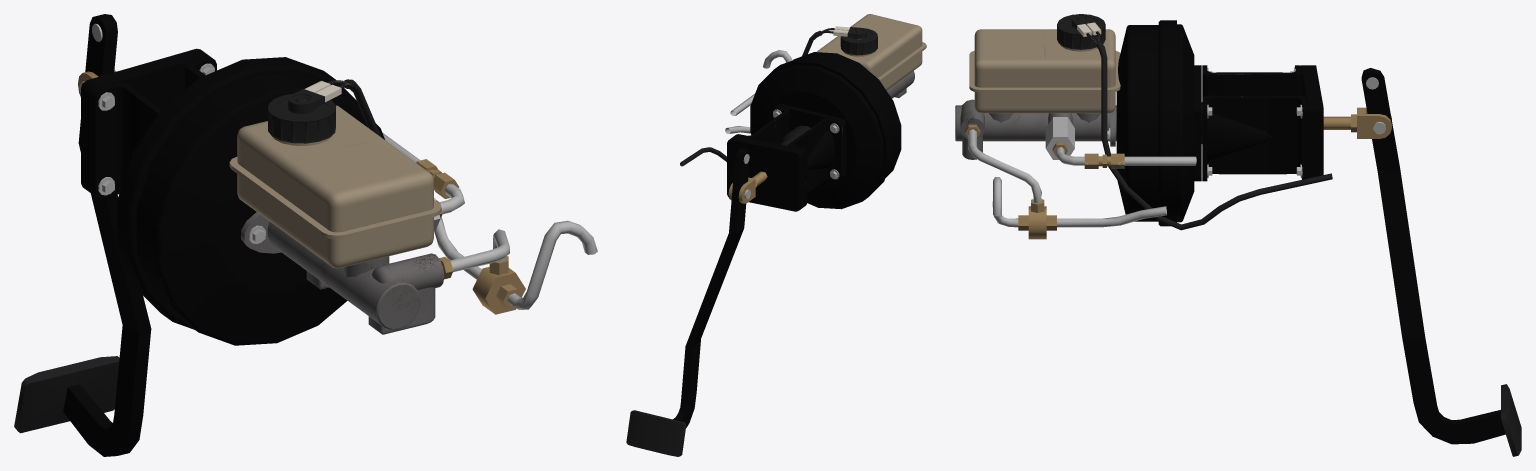
File: tcc_models-brake_booster.glb
The picture shows the model from 3 angles, left to right: view 1: azimuth 30°, elevation 25°; view 2: azimuth 150°, elevation 25°; view 3: azimuth 270°, elevation 25°; orthographic projection. The views are drawn at different scales.
Parts seen in each view (by area): view 1: hidrovacuo, reservatorio_freio, pedal_freio, cilindro_mestre, linhas_freio; view 2: hidrovacuo, pedal_freio, reservatorio_freio, linhas_freio, cilindro_mestre; view 3: hidrovacuo, reservatorio_freio, pedal_freio, linhas_freio, cilindro_mestre.
Boxes of the visible parts, bbox=[...] form: hidrovacuo: bbox=[78, 48, 384, 345]; reservatorio_freio: bbox=[229, 79, 441, 268]; pedal_freio: bbox=[14, 14, 151, 456]; cilindro_mestre: bbox=[241, 198, 453, 334]; linhas_freio: bbox=[382, 132, 597, 314]; hidrovacuo: bbox=[727, 52, 901, 211]; pedal_freio: bbox=[626, 148, 750, 456]; reservatorio_freio: bbox=[680, 14, 926, 166]; linhas_freio: bbox=[725, 50, 792, 133]; cilindro_mestre: bbox=[886, 71, 914, 98]; hidrovacuo: bbox=[1116, 20, 1391, 226]; reservatorio_freio: bbox=[969, 14, 1332, 230]; pedal_freio: bbox=[1361, 68, 1521, 456]; linhas_freio: bbox=[968, 129, 1196, 239]; cilindro_mestre: bbox=[955, 99, 1116, 159].
Bounding box in the file's own units: 0.2446 × 0.376 × 0.4826.
Materials: 2 (2 with a texture image).
